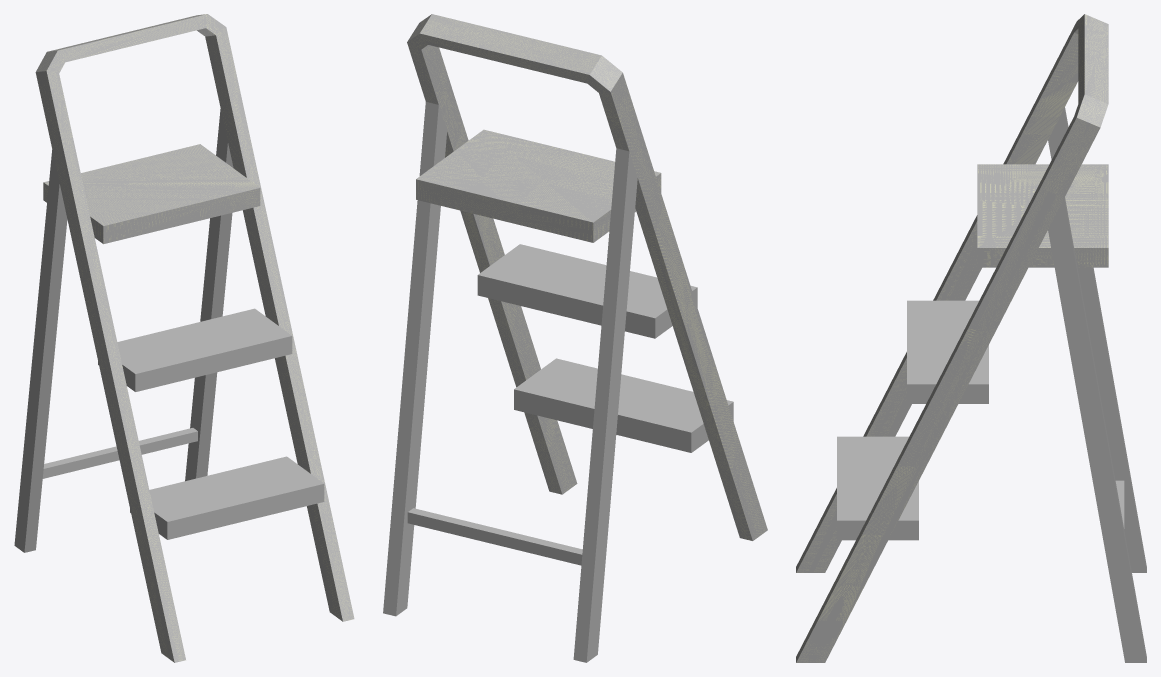
3 views of the same model, side by side, from view 1: azimuth 30°, elevation 25°; view 2: azimuth 150°, elevation 25°; view 3: azimuth 270°, elevation 25° (orthographic). The views are drawn at different scales.
Parts seen in each view (by area): view 1: SketchUp (×2), Component_2 (×2), Component_1 (×2), Component_3; view 2: SketchUp (×2), Component_1 (×2), Component_2 (×2), Component_3; view 3: SketchUp (×2), Component_1 (×2), Component_2 (×2).
Boxes of the visible parts, x1,y1,x2,y2 form: SketchUp (×2): (35, 14, 354, 662); Component_2 (×2): (98, 308, 324, 539); Component_1 (×2): (14, 109, 233, 552); Component_3: (42, 428, 197, 478); SketchUp (×2): (407, 14, 767, 540); Component_1 (×2): (383, 102, 637, 662); Component_2 (×2): (477, 244, 733, 452); Component_3: (407, 508, 582, 565); SketchUp (×2): (796, 14, 1108, 662); Component_1 (×2): (1048, 107, 1146, 662); Component_2 (×2): (837, 300, 988, 540).
Size of the model in its own units: 15.63 by 24.11 by 42.53.
